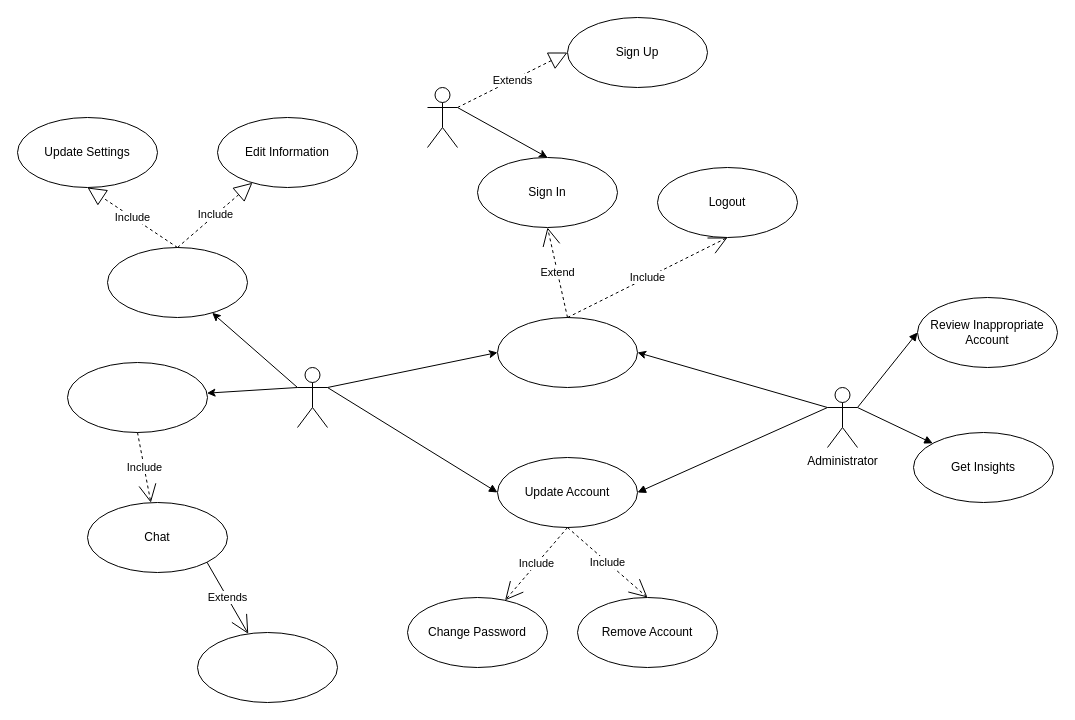
This 1075x720 diagram has some shape labels left out. Here are the shapes that lost their labels. From the top down, the centre of each, then its label:
At (x=442, y=117): "Visitor".
At (x=177, y=282): "Update Profile".
At (x=567, y=352): "Login".
At (x=137, y=397): "Like/Dislike/Match Profile".
At (x=312, y=397): "User".
At (x=267, y=667): "Unmatched Profile".
